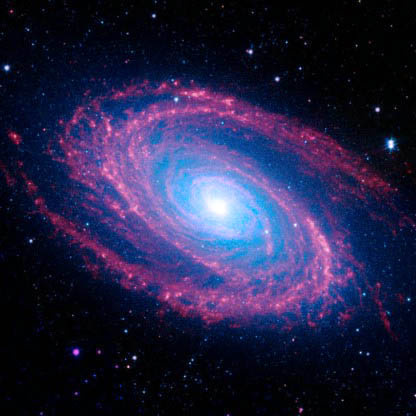Messier 81: (18, 68, 413, 348)
